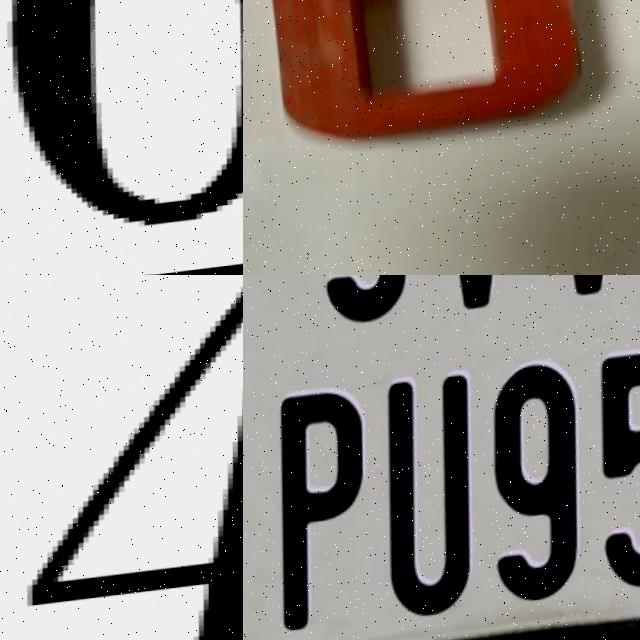5: (591, 349, 640, 598)
6: (0, 0, 243, 249)
9: (483, 356, 609, 612), (306, 275, 430, 332)
O: (256, 0, 603, 156)
P: (267, 387, 386, 636)
U: (376, 370, 496, 621)
